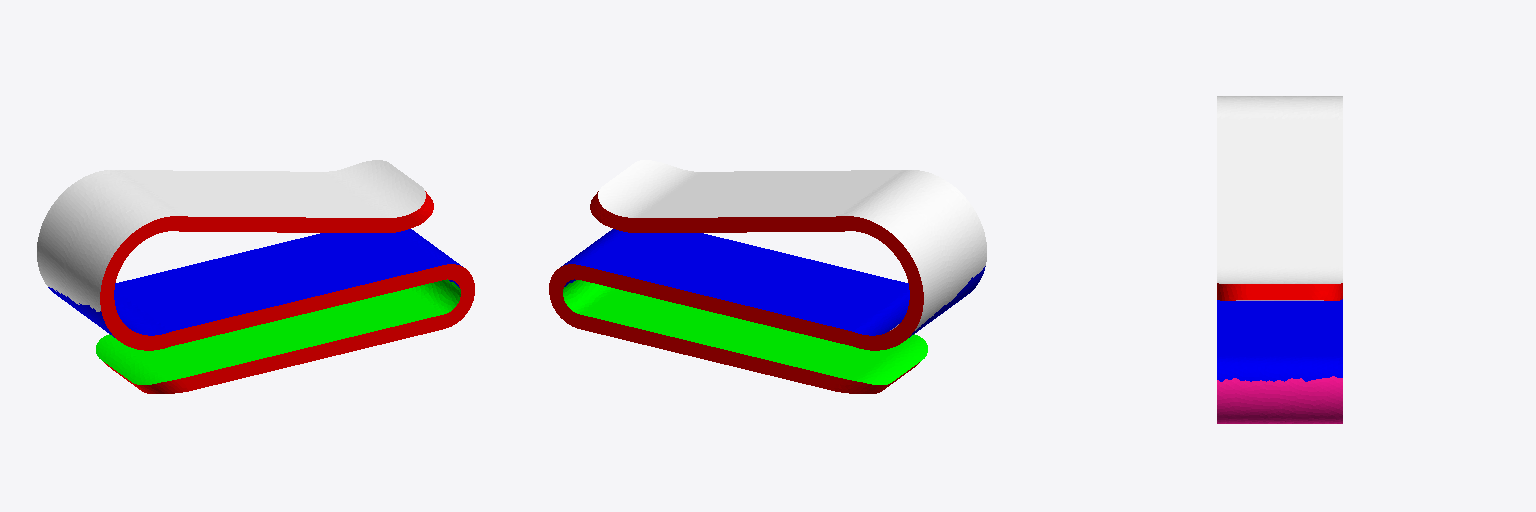
Rendered from model_35171_segmented.obj.
3 renders of one model, left to right at view 1: azimuth 30°, elevation 25°; view 2: azimuth 150°, elevation 25°; view 3: azimuth 270°, elevation 25°, orthographic.
Bounding box in the file's own units: 68.32 × 31.98 × 20.